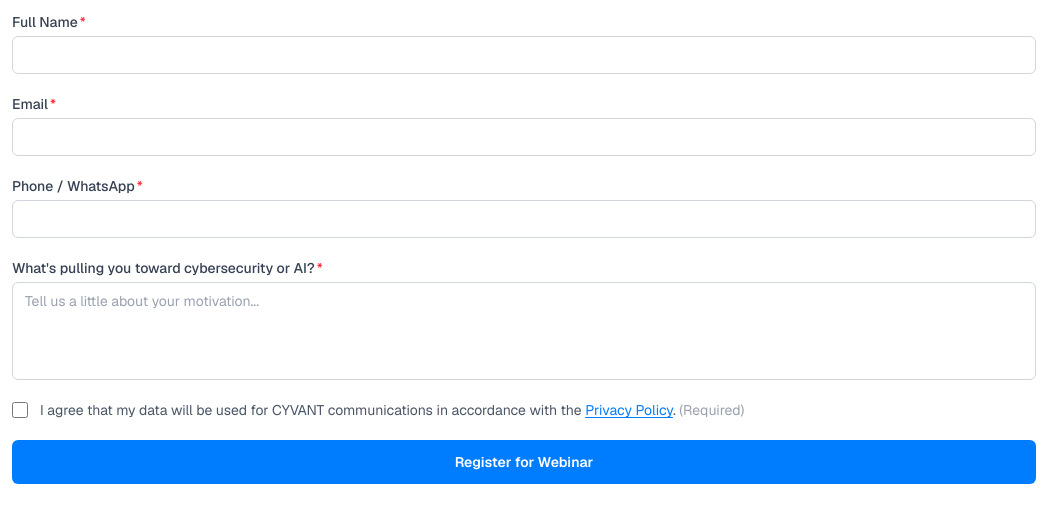
Test: WebinarForm › shows validation error for invalid email on submit
Type "Test User" into the field labelled "Full Name*" at (524, 55), box x1=12 y1=36 x2=1036 y2=74
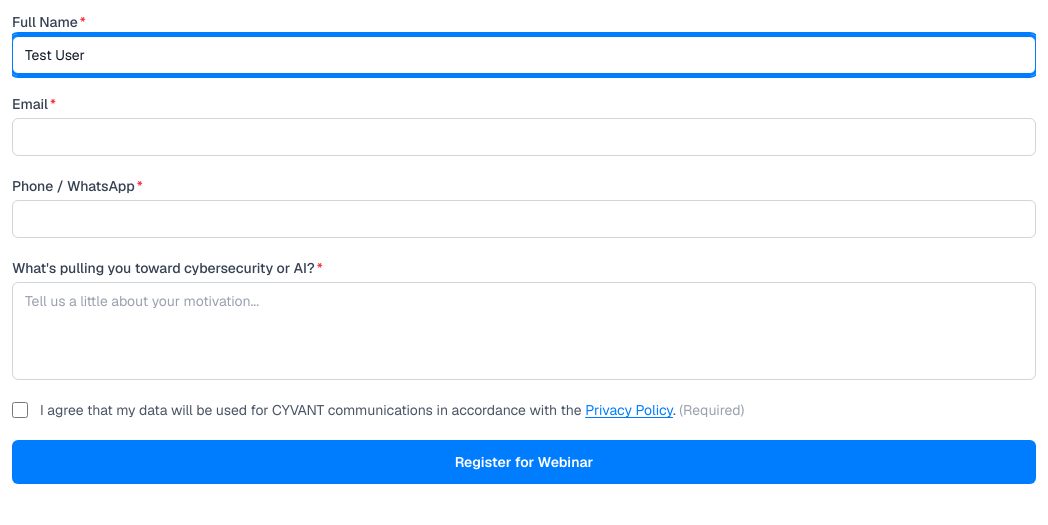
Type "not-an-email" into the field labelled "Email*" at (524, 137), box x1=12 y1=118 x2=1036 y2=156
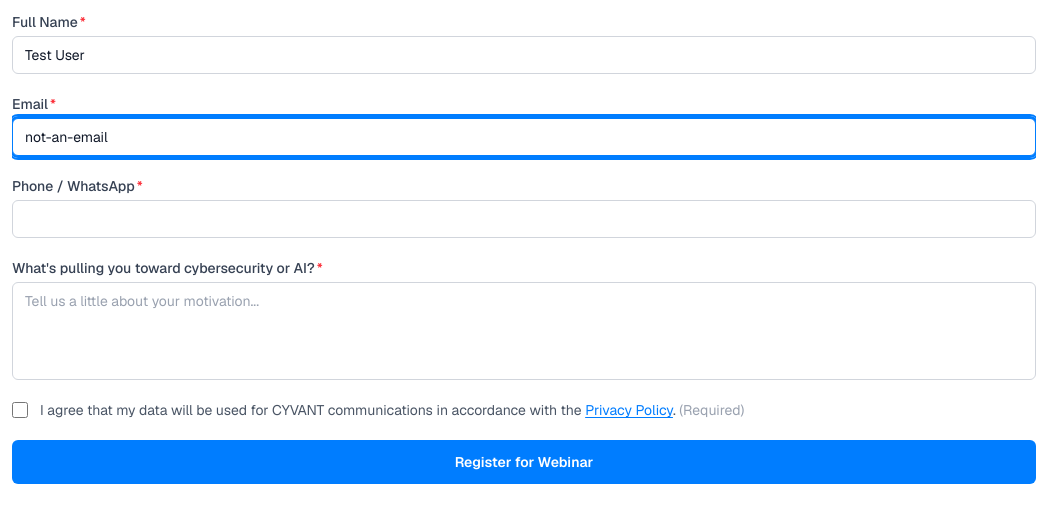
Type "+2348012345678" into the field labelled "Phone / WhatsApp*" at (524, 219), box x1=12 y1=200 x2=1036 y2=238
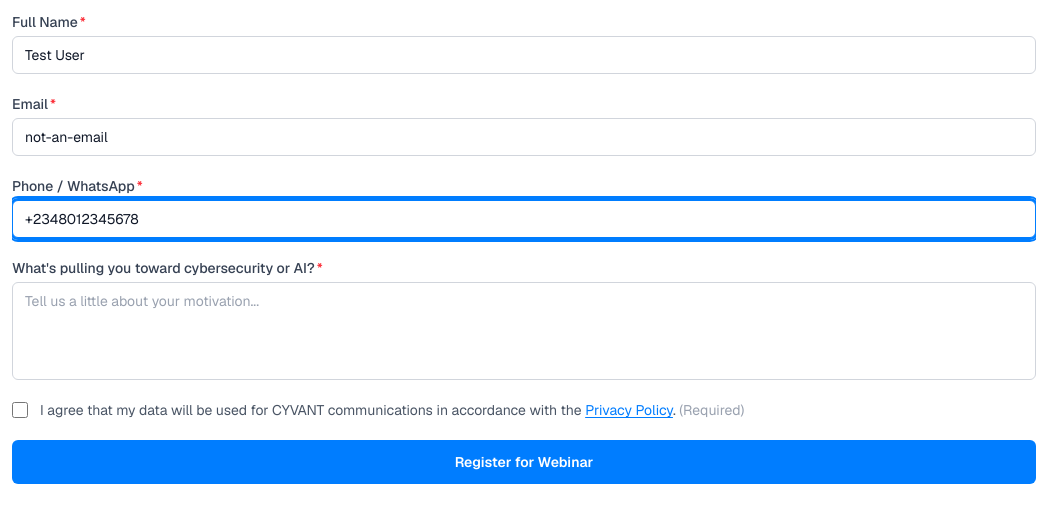
Type "Interested in cybersecurity" into the text box labelled "What's pulling you toward cybersecurity or AI?*" at (524, 331), box x1=12 y1=282 x2=1036 y2=380
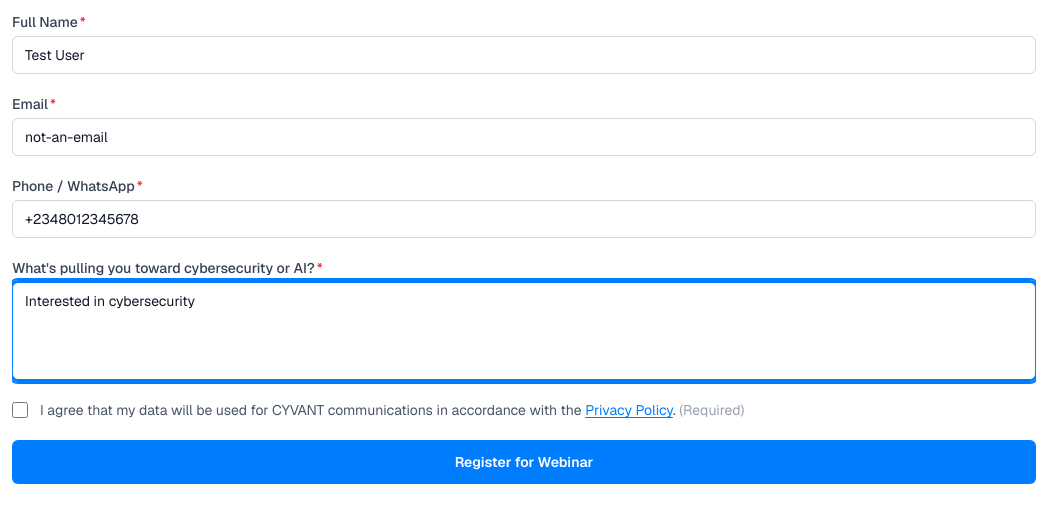
Click the checkbox at (20, 410), box x1=12 y1=402 x2=28 y2=418
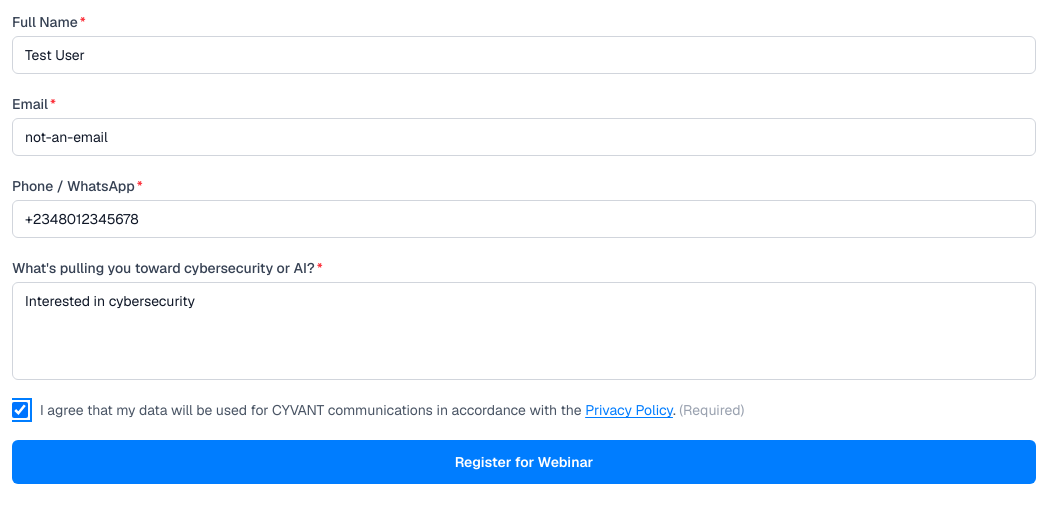
Click the button "Register for Webinar" at (524, 462), box x1=12 y1=440 x2=1036 y2=484
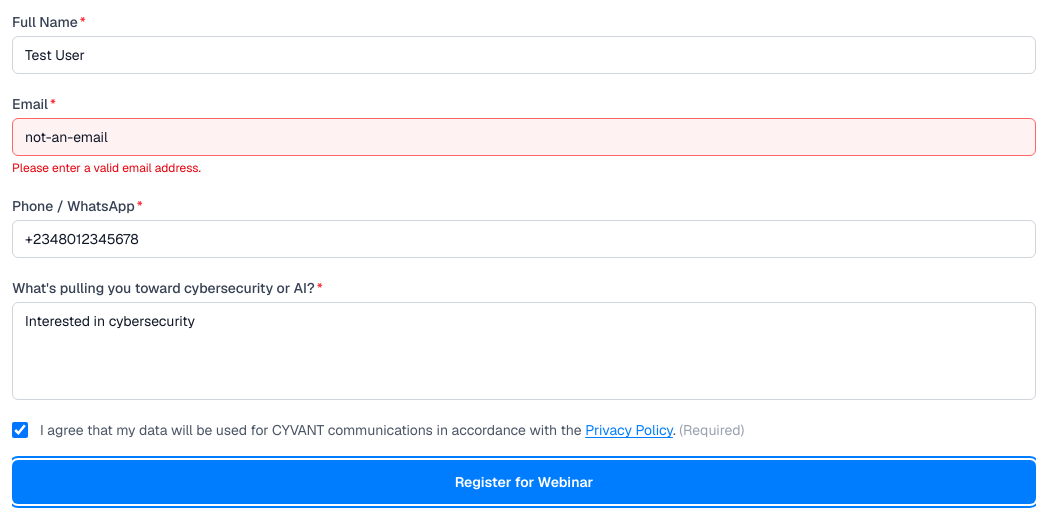
Now the text "Please enter a valid email address." is shown, box x1=12 y1=160 x2=201 y2=176
